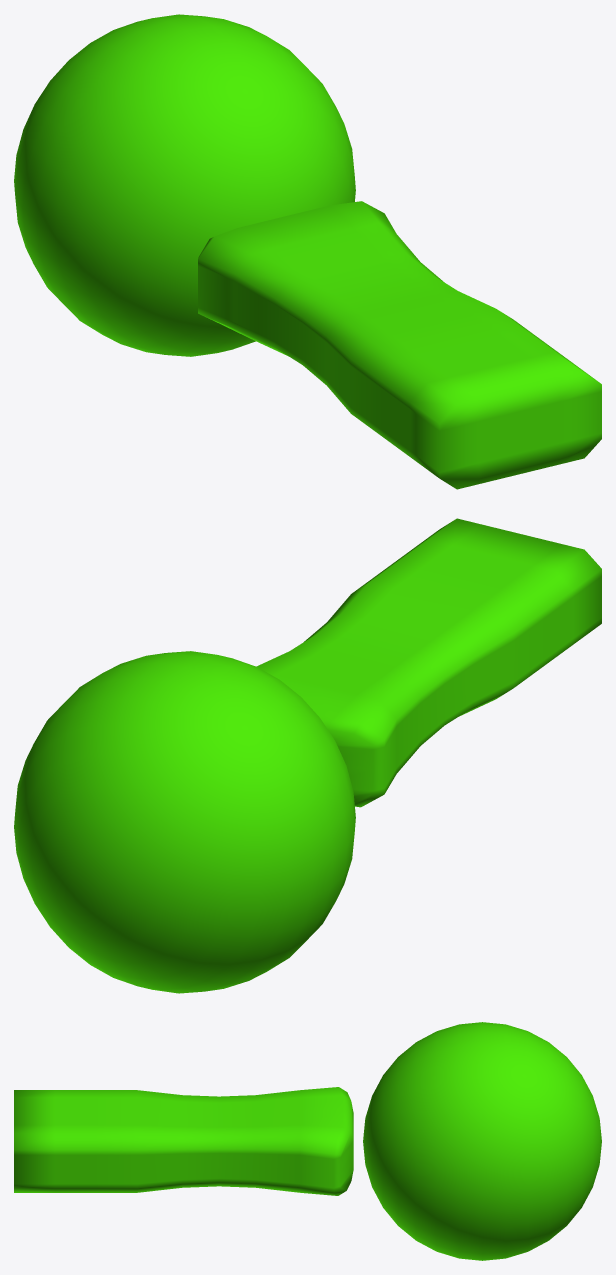
File: Individuo.fbx
3 renders of one model, top to bottom at view 1: azimuth 30°, elevation 25°; view 2: azimuth 150°, elevation 25°; view 3: azimuth 270°, elevation 25°, orthographic. The views are drawn at different scales.
Parts seen in each view (by area): view 1: Individuo; view 2: Individuo; view 3: Individuo.
Boxes of the visible parts, x1,y1,x2,y2 form: Individuo: (14, 14, 601, 489); Individuo: (14, 518, 601, 993); Individuo: (14, 1022, 601, 1260).
Size of the model in its own units: 653 by 653 by 1606.
